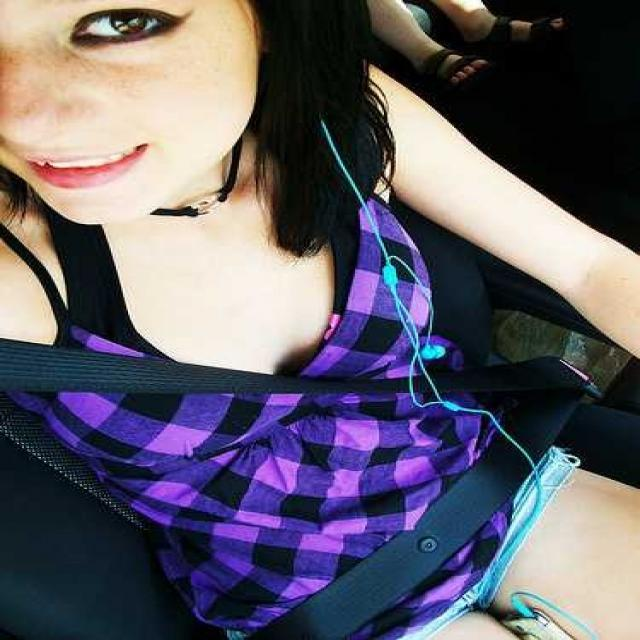seatbelt: (59, 332, 616, 546)
